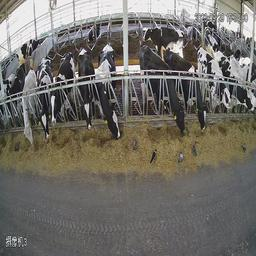cow: (138, 51, 187, 133), (97, 46, 121, 139), (200, 47, 231, 110), (52, 52, 75, 125), (77, 48, 96, 132), (141, 22, 188, 53), (187, 64, 207, 131), (232, 53, 251, 118), (22, 69, 36, 147), (38, 59, 51, 139), (14, 36, 42, 65), (87, 20, 103, 40)
